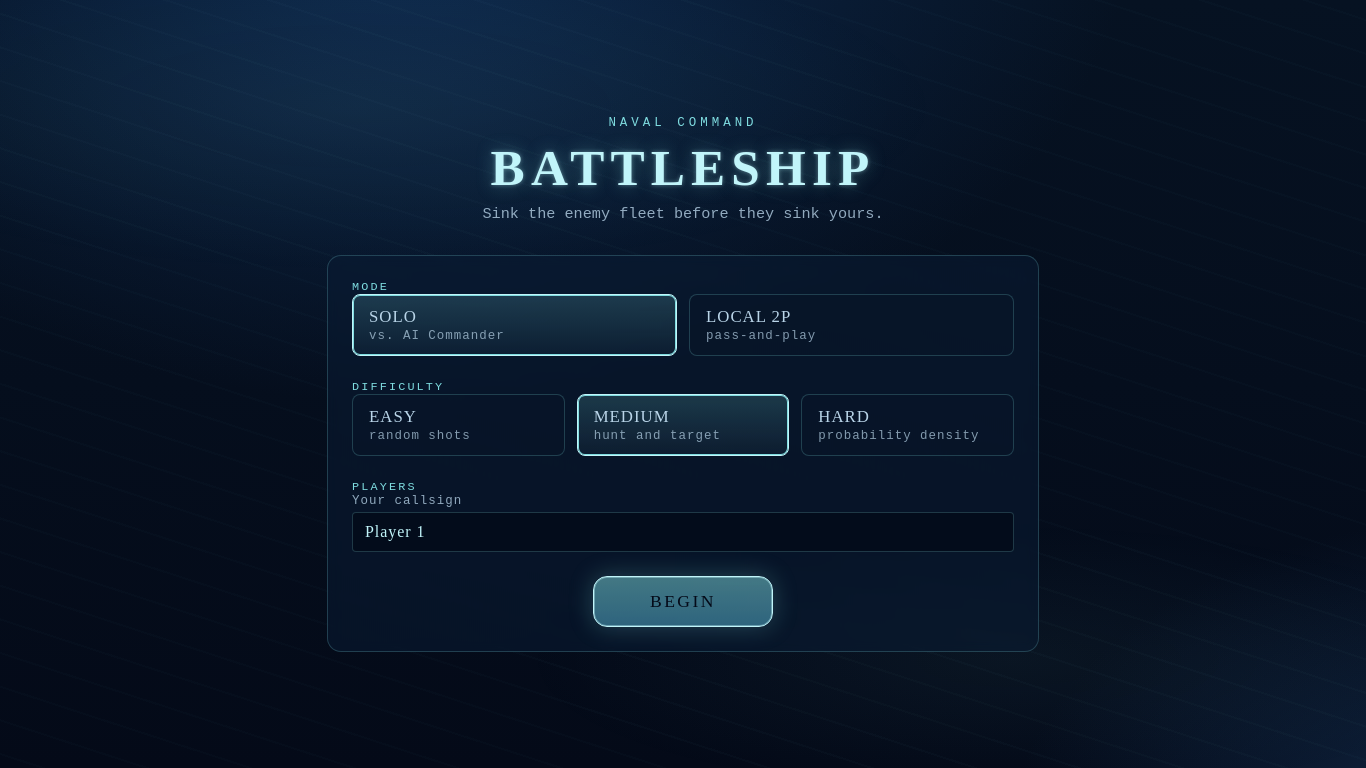
Test case: Cell ARIA labels (#43) › Battle log uses aria-live="polite" so updates announce to screen readers
The image size is (1366, 768).
Click the button with aria-label "begin placement": click(683, 602) [593,576,773,627]
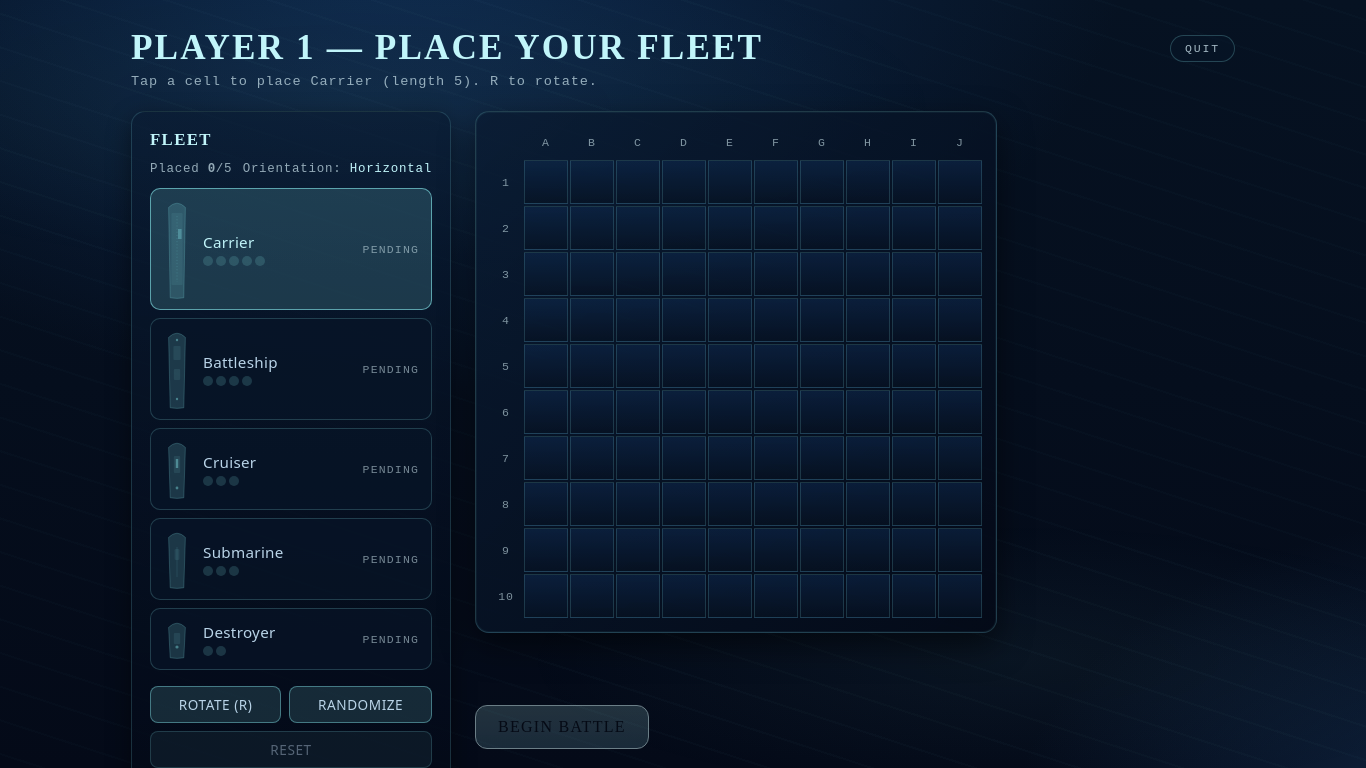
Click the button with aria-label "randomize fleet": click(361, 704) [289,686,432,723]
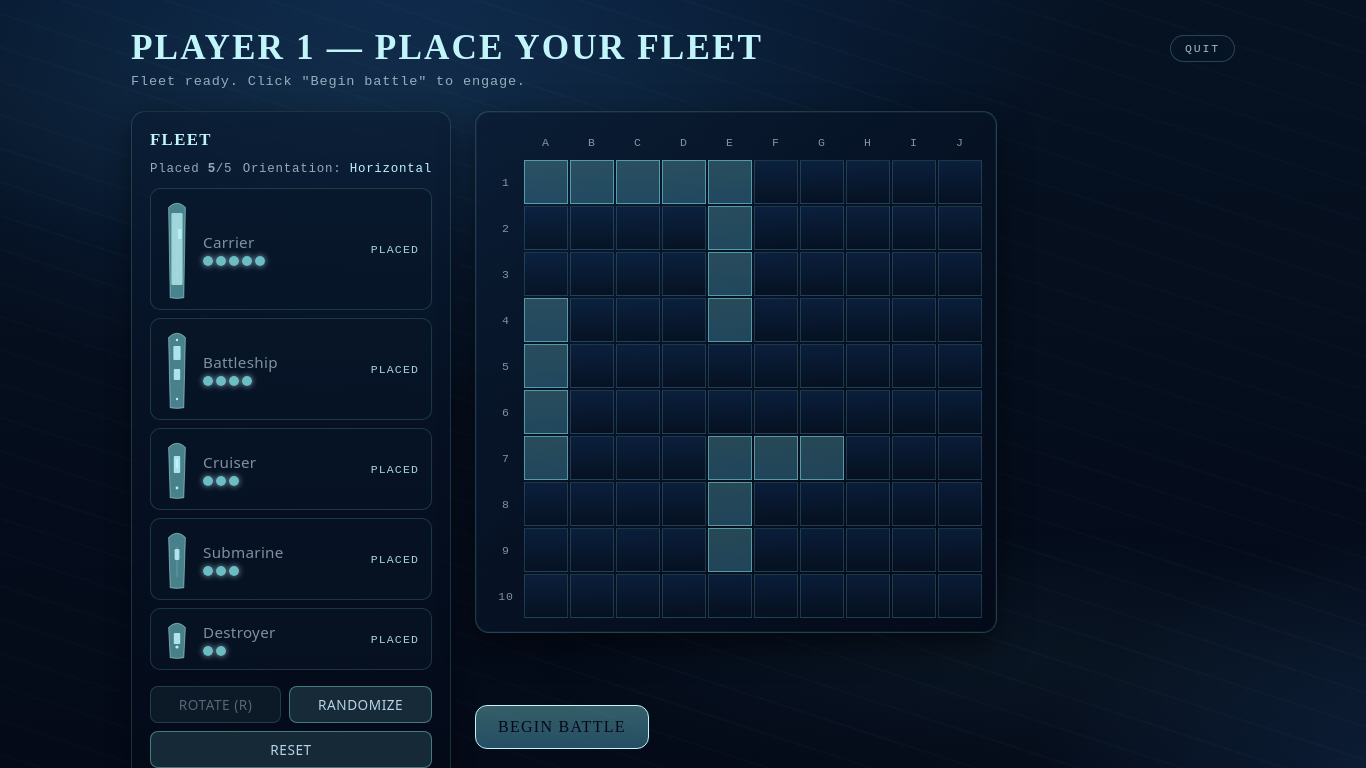
Click the button "Begin battle": click(562, 726) [475,704,649,748]
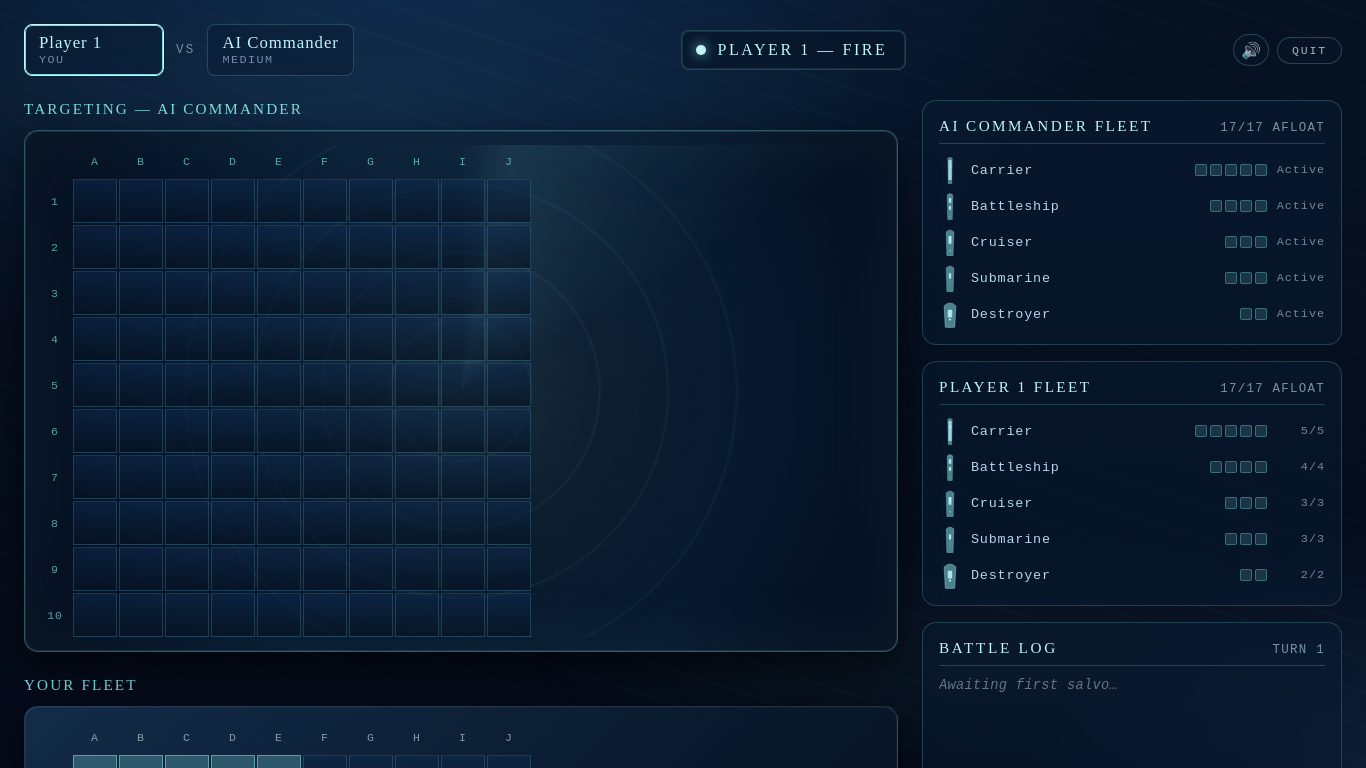
Check: the list "Awaiting first salvo…" is shown, box [939,678,1118,693]
